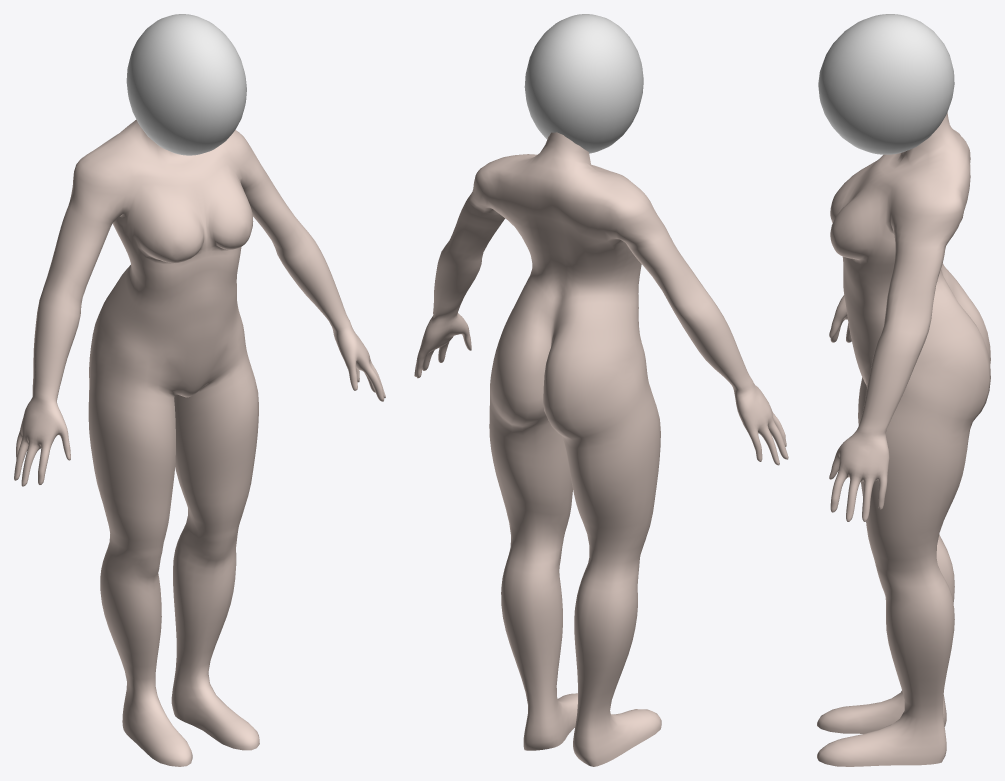
Rendered from Female_Basemesh_teenager.fbx.
The picture shows the model from 3 angles, left to right: view 1: azimuth 30°, elevation 25°; view 2: azimuth 150°, elevation 25°; view 3: azimuth 270°, elevation 25°; orthographic projection.
Parts seen in each view (by area): view 1: Cube.002, Sphere.001; view 2: Cube.002, Sphere.001; view 3: Cube.002, Sphere.001.
Part boxes in pixels (x1=…): Cube.002: x1=14, y1=119, x2=385, y2=766; Sphere.001: x1=126, y1=14, x2=246, y2=155; Cube.002: x1=414, y1=132, x2=788, y2=766; Sphere.001: x1=524, y1=14, x2=643, y2=153; Cube.002: x1=817, y1=112, x2=990, y2=766; Sphere.001: x1=818, y1=14, x2=954, y2=154.
Size of the model in its own units: 316 by 595 by 129.
